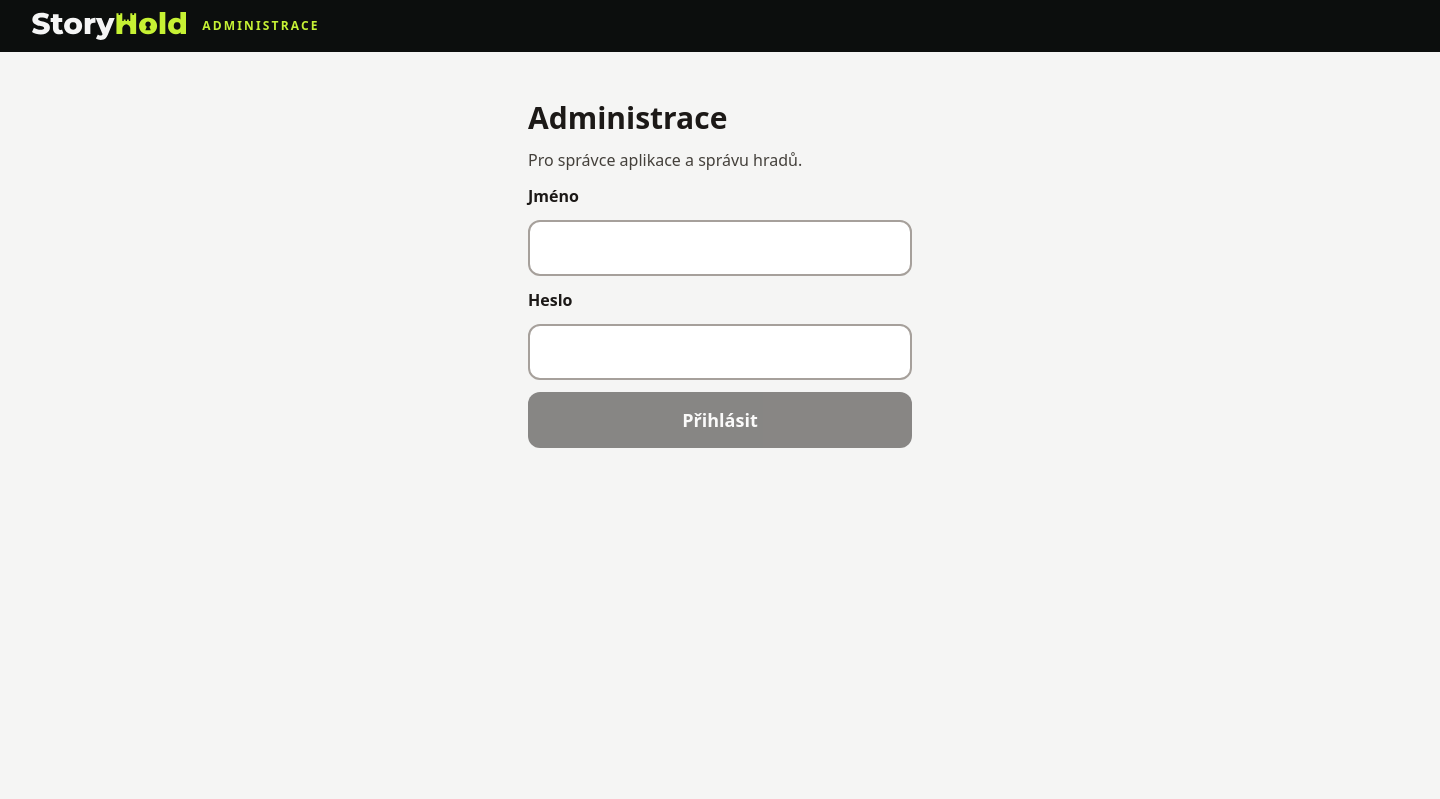
Test: AdminPage — castle › shows the castle its stock of cards, deliveries and months — and nothing of the operator
The width and height of the screenshot is (1440, 799).
In the field labelled "Jméno": (720, 248) 528,220 -> 912,276, type "hrad"
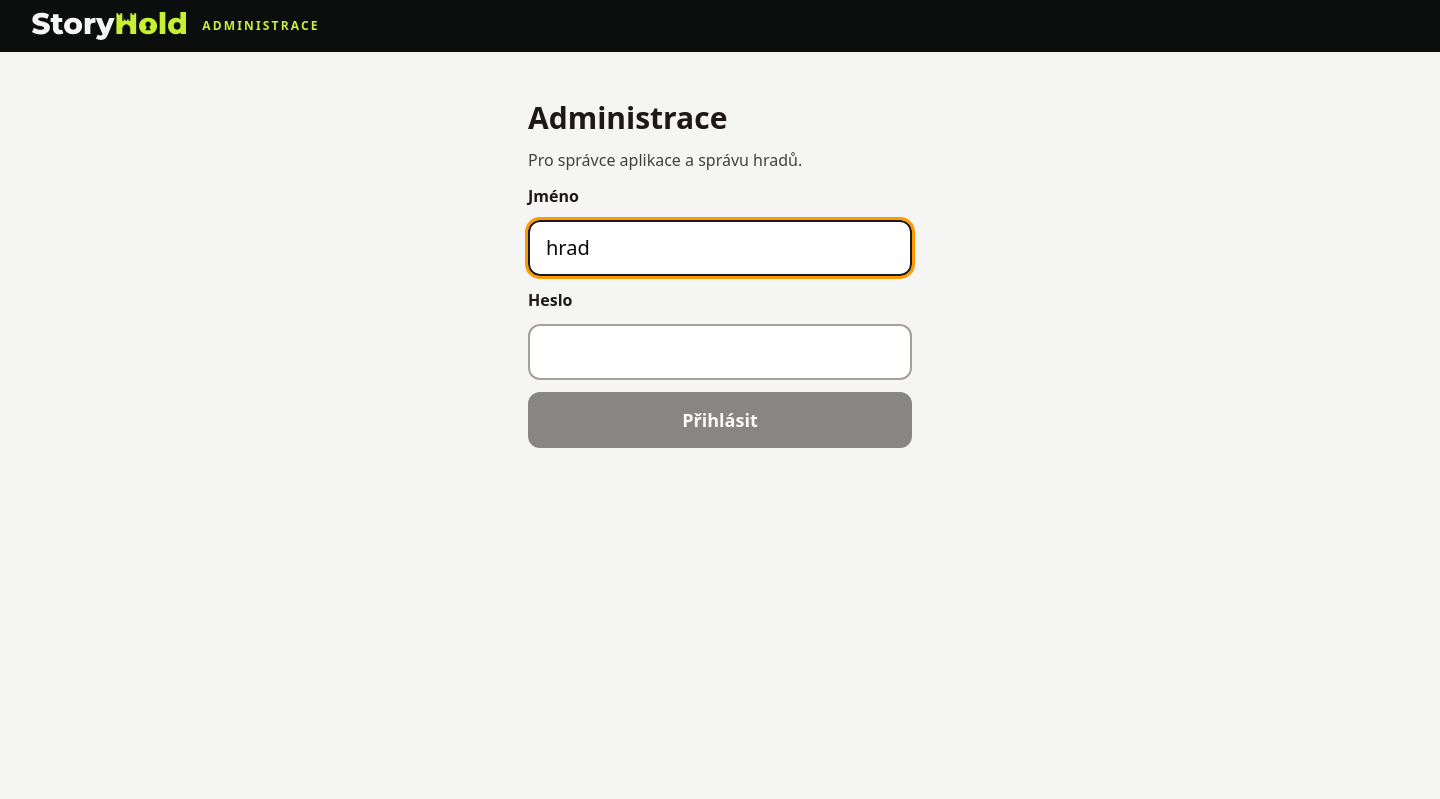
In the password field labelled "Heslo": (720, 352) 528,324 -> 912,380, type "hrad-loket"
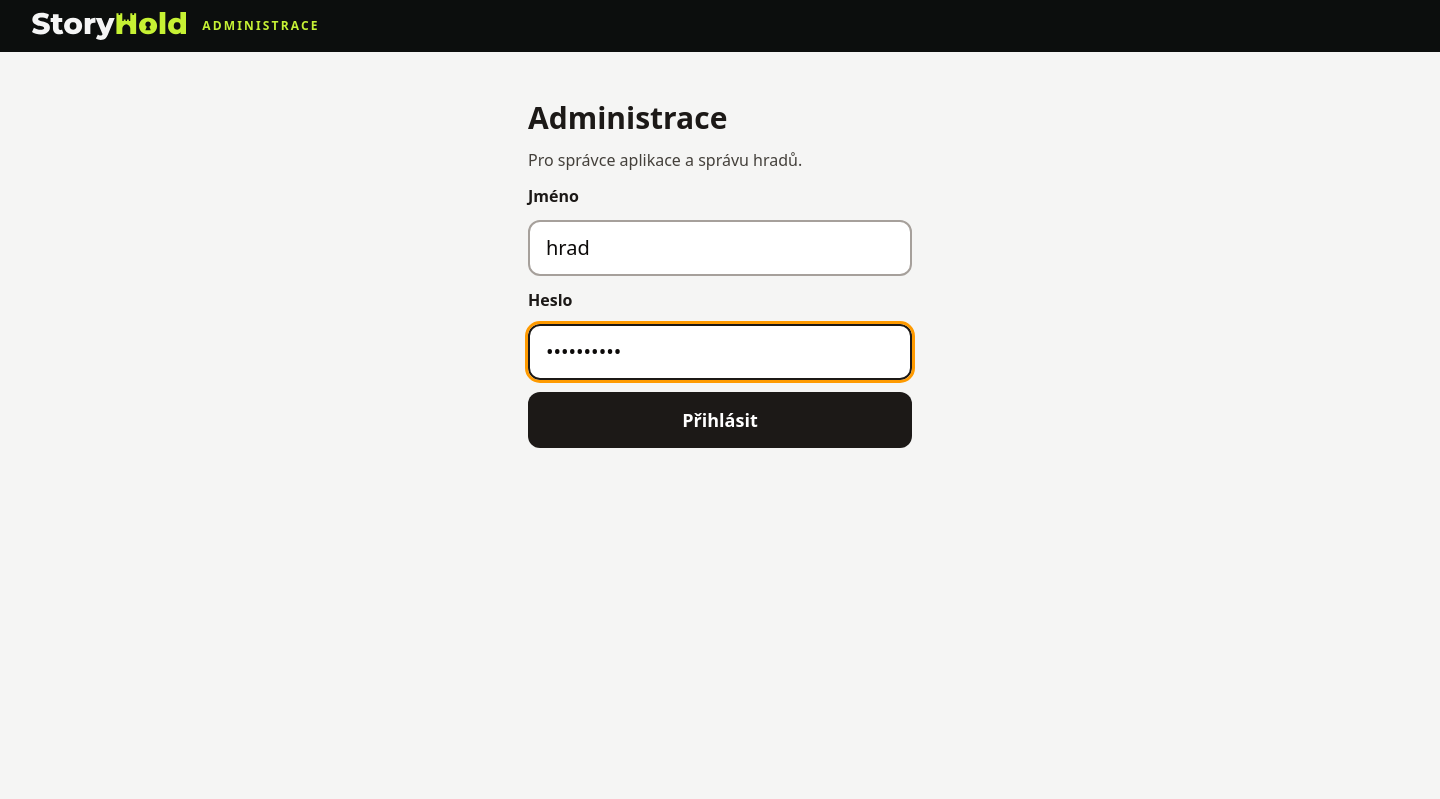
Click the button "Přihlásit": (720, 420) 528,392 -> 912,448
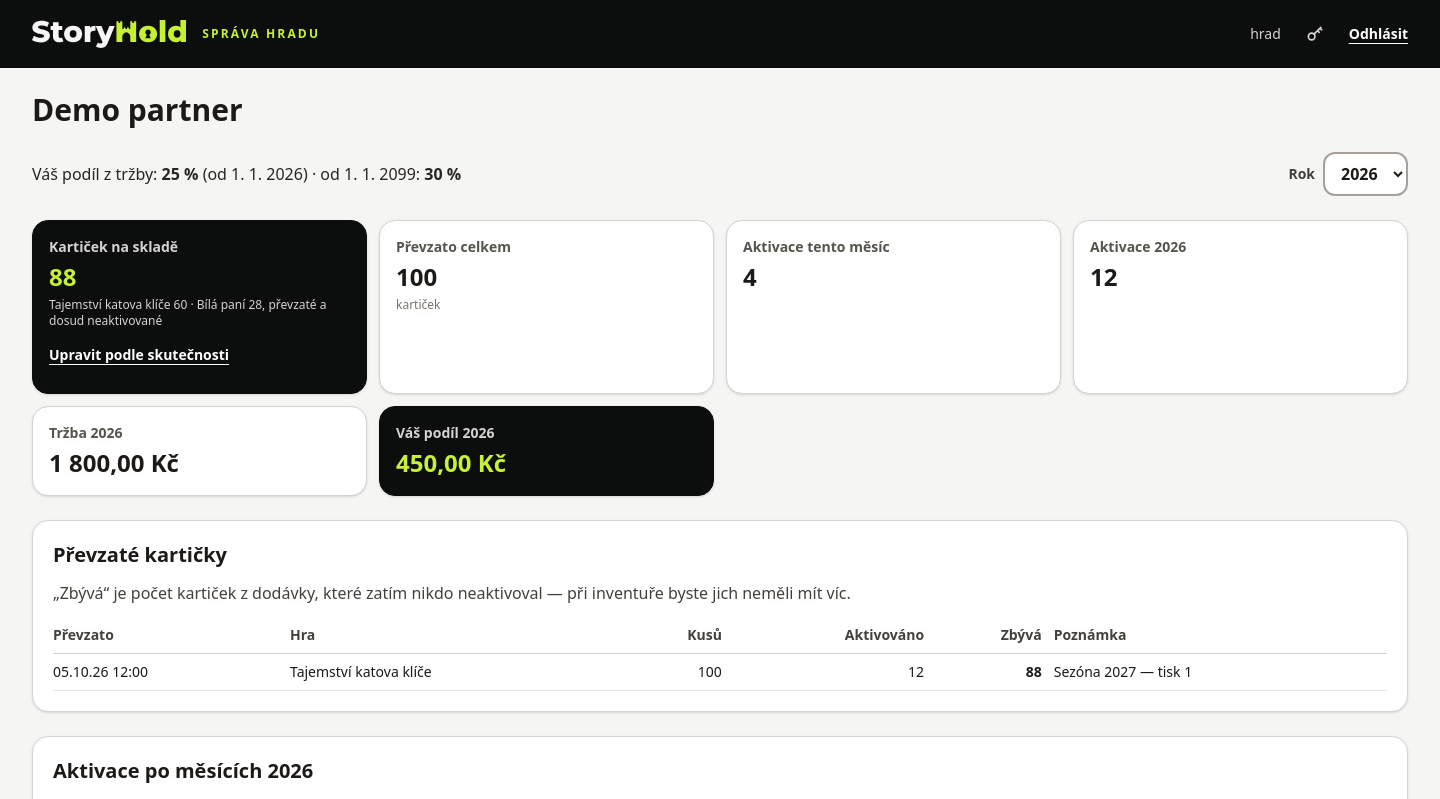
Check: the heading "Demo partner" is shown, box 32,89 -> 243,130
Check: the text "88" is shown, box 49,260 -> 76,293
Check: the text "Váš podíl z tržby:" shows "25 % (od 1. 1. 2026)", box 32,162 -> 461,186
